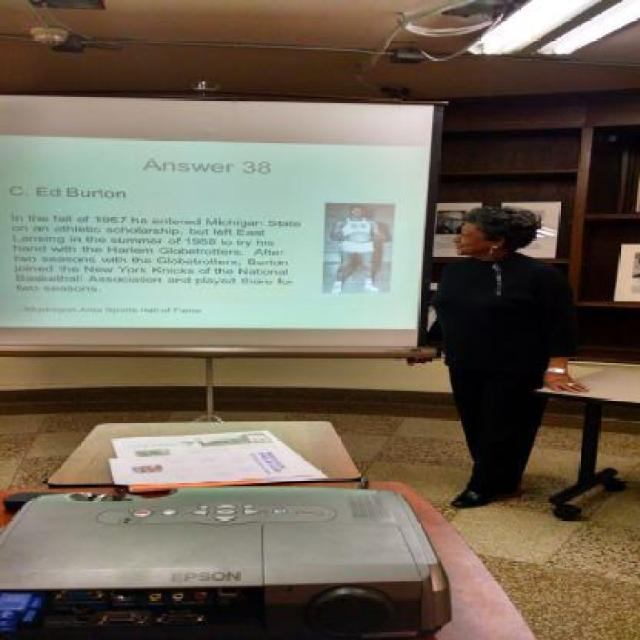Person: (413, 186, 587, 494), (330, 202, 387, 290), (437, 208, 457, 234)
